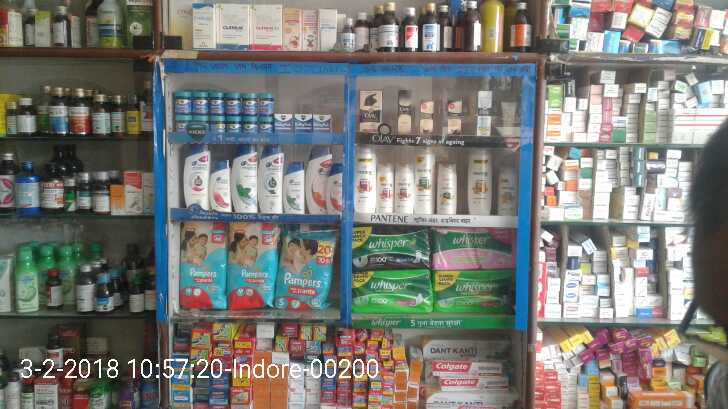beauty: (229, 146, 259, 213), (182, 146, 213, 209), (467, 149, 494, 219), (258, 146, 285, 215), (207, 157, 237, 214), (355, 146, 377, 213), (435, 162, 460, 214), (416, 149, 435, 214), (282, 162, 303, 214), (358, 91, 383, 130), (377, 163, 396, 212), (395, 164, 413, 212), (397, 86, 413, 135), (474, 91, 491, 137), (445, 99, 463, 137), (418, 99, 435, 136)
pharmacy: (274, 227, 335, 309), (227, 222, 280, 311), (181, 220, 230, 312), (351, 223, 432, 273), (433, 225, 516, 270), (432, 270, 516, 314), (352, 272, 431, 313), (172, 91, 276, 117)
